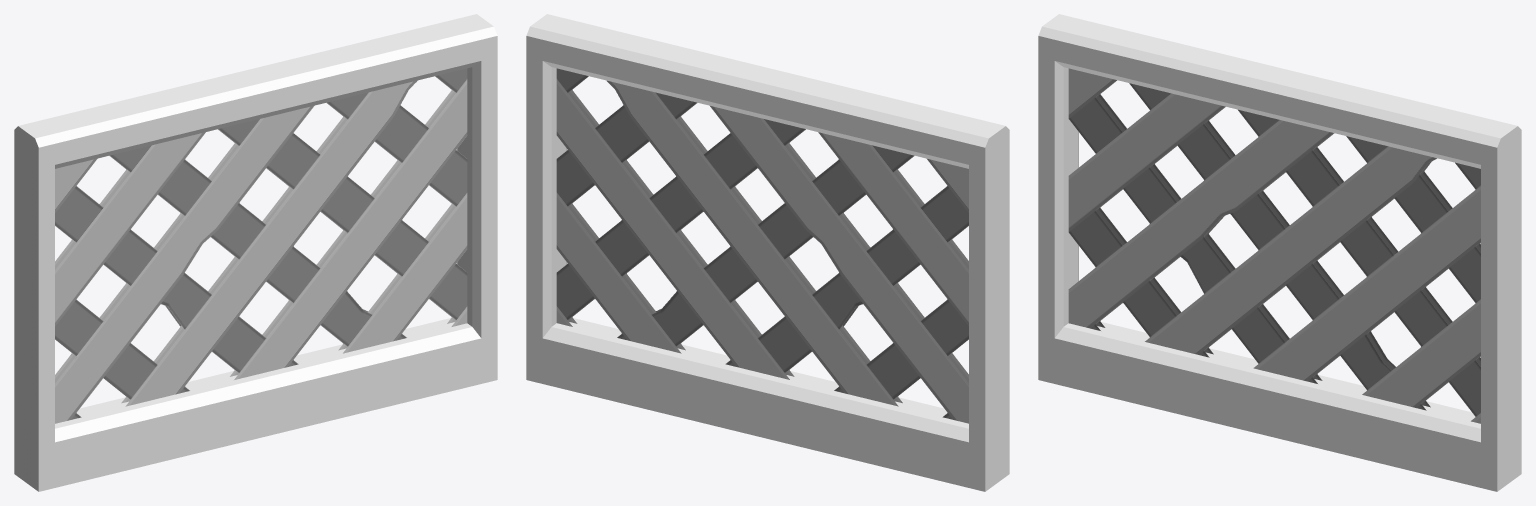
The model's file is SM_Bld_Villa_Railing_01_Half_01.obj.
3 renders of one model, left to right at view 1: azimuth 30°, elevation 25°; view 2: azimuth 150°, elevation 25°; view 3: azimuth 330°, elevation 25°, orthographic.
Visible parts, largest first — view 1: SM_Bld_Villa_Railing_01_Half_01_0, SM_Bld_Villa_Railing_01_Half_01_1; view 2: SM_Bld_Villa_Railing_01_Half_01_0, SM_Bld_Villa_Railing_01_Half_01_1; view 3: SM_Bld_Villa_Railing_01_Half_01_0, SM_Bld_Villa_Railing_01_Half_01_1.
Part boxes in pixels (x1,y1,x2,y2): SM_Bld_Villa_Railing_01_Half_01_0: (55, 68, 467, 423); SM_Bld_Villa_Railing_01_Half_01_1: (14, 14, 497, 491); SM_Bld_Villa_Railing_01_Half_01_0: (556, 68, 968, 423); SM_Bld_Villa_Railing_01_Half_01_1: (526, 14, 1009, 491); SM_Bld_Villa_Railing_01_Half_01_0: (1068, 68, 1480, 423); SM_Bld_Villa_Railing_01_Half_01_1: (1038, 14, 1521, 491).
Size of the model in its own units: 1.25 by 0.9133 by 0.1151.
2 materials, 1 textured.
